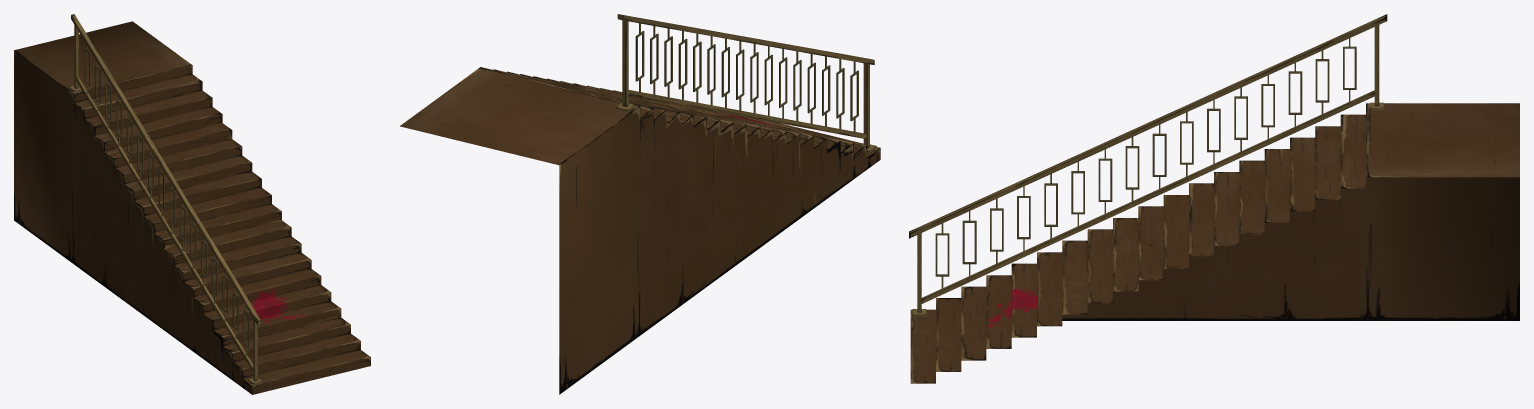
File: Stairs.fbx
The picture shows the model from 3 angles, left to right: view 1: azimuth 30°, elevation 25°; view 2: azimuth 150°, elevation 25°; view 3: azimuth 270°, elevation 25°; orthographic projection. The views are drawn at different scales.
Visible parts, largest first — view 1: Stairs; view 2: Stairs; view 3: Stairs.
Part boxes in pixels (bbox=[...]): Stairs: bbox=[14, 14, 370, 394]; Stairs: bbox=[400, 14, 880, 394]; Stairs: bbox=[909, 14, 1519, 383].
Size of the model in its own units: 298 by 582 by 1040.
1 material, 1 textured.
